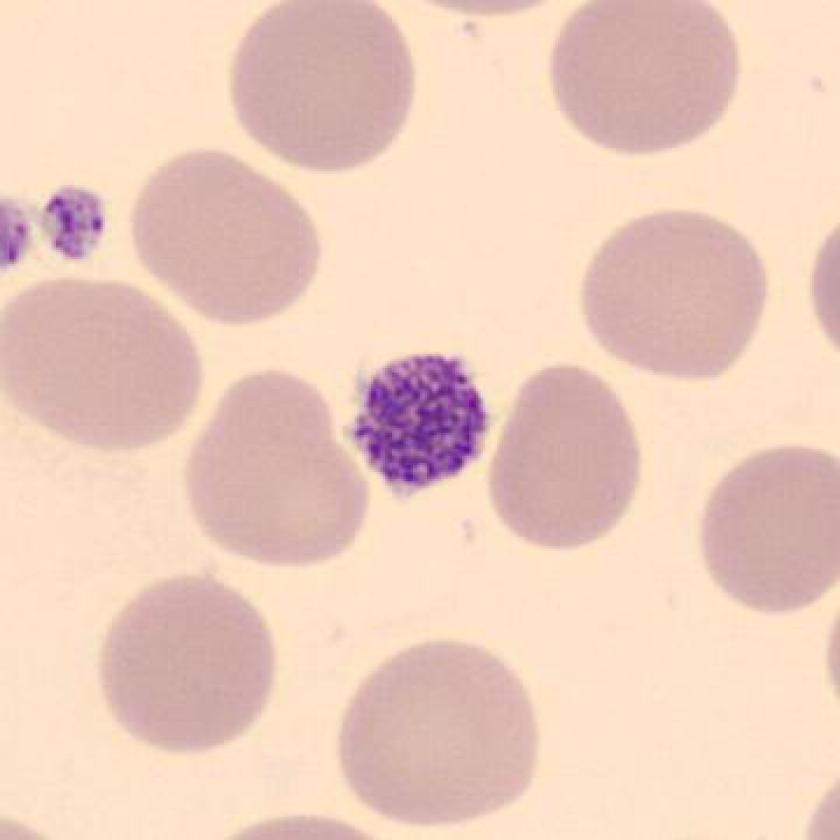platelets: (342, 337, 498, 515)
